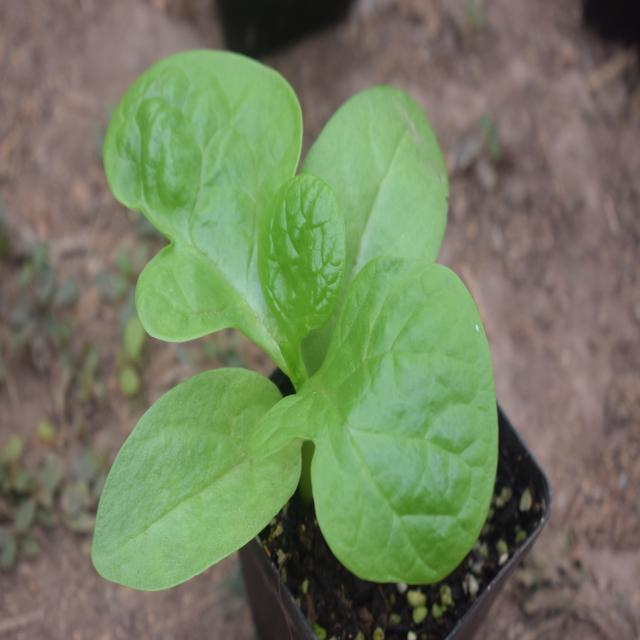Ceylon spinach: (91, 25, 508, 611)
